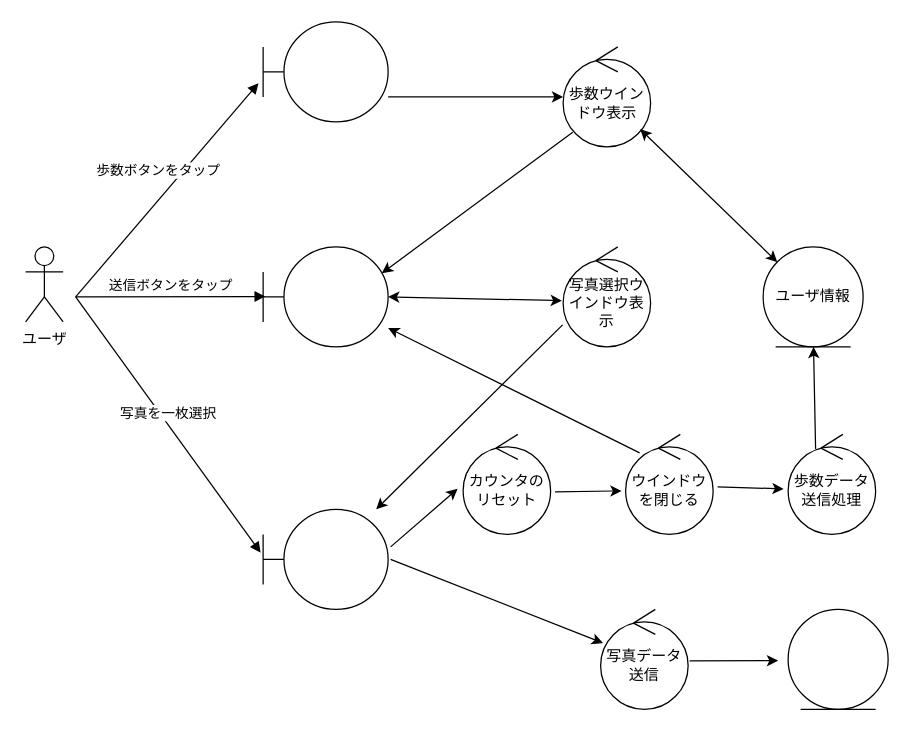
Some shapes in this 910 by 731 pixel diagram are drawn without their labels. Each missing label, with the box of its shape:
メニュー画面: (262, 21, 388, 122)
写真選択ウインドウ: (262, 508, 388, 609)
地図データベース: (787, 608, 888, 709)
歩数画面: (262, 246, 388, 347)
